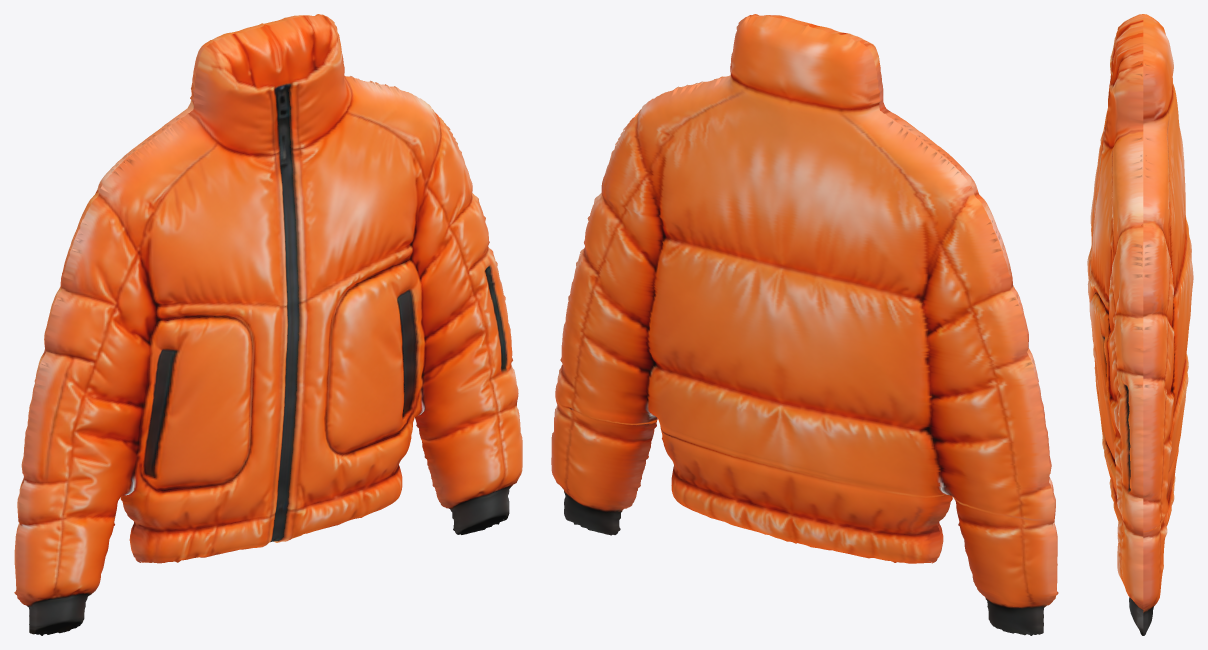
File: jacket_orange_thin.glb
3 renders of one model, left to right at view 1: azimuth 30°, elevation 25°; view 2: azimuth 150°, elevation 25°; view 3: azimuth 270°, elevation 25°, orthographic. The views are drawn at different scales.
Parts seen in each view (by area): view 1: Orange_Jacket_Thin_Repaired; view 2: Orange_Jacket_Thin_Repaired; view 3: Orange_Jacket_Thin_Repaired.
Boxes of the visible parts, x1=… form: Orange_Jacket_Thin_Repaired: x1=14, y1=14, x2=522, y2=635; Orange_Jacket_Thin_Repaired: x1=551, y1=14, x2=1058, y2=635; Orange_Jacket_Thin_Repaired: x1=1087, y1=14, x2=1193, y2=635.
Size of the model in its own units: 2.16 by 2.28 by 0.4373.
Materials: 2 (2 with a texture image).
